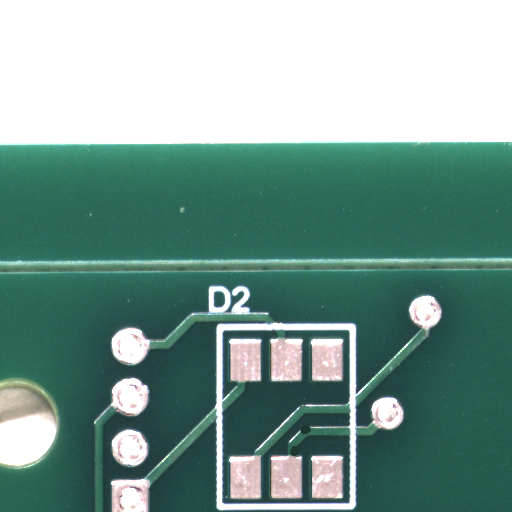Mouse_bite: (306, 430, 317, 440), (294, 451, 303, 460)
